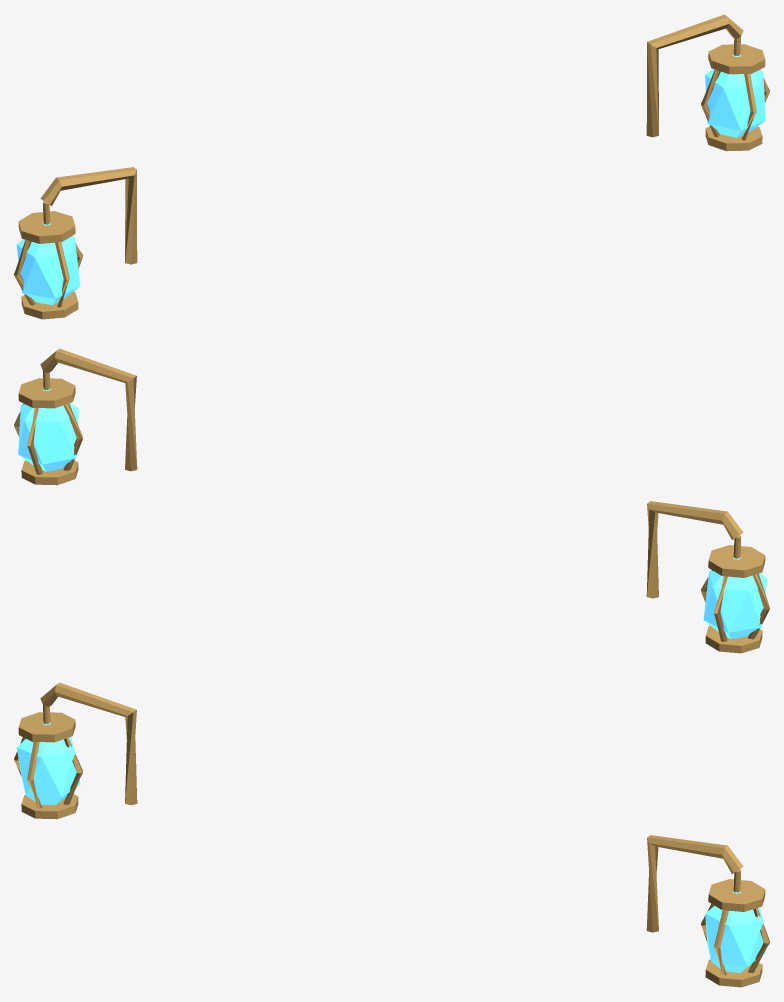
File: cobalt_lamps.glb
The picture shows the model from 3 angles, top to bottom: view 1: azimuth 30°, elevation 25°; view 2: azimuth 150°, elevation 25°; view 3: azimuth 330°, elevation 25°; orthographic projection.
Visible parts, largest first — view 1: Cobalt glass.001, Cobalt glass, Lantern crook.001, Lantern crook, Glass lamp cap, Glass lamp cap.002, Glass lamp cap.001, Glass lamp cap.003; view 2: Cobalt glass.001, Cobalt glass, Lantern crook, Lantern crook.001, Glass lamp cap, Glass lamp cap.002, Glass lamp cap.001, Glass lamp cap.003; view 3: Cobalt glass, Cobalt glass.001, Lantern crook, Lantern crook.001, Glass lamp cap.002, Glass lamp cap, Glass lamp cap.003, Glass lamp cap.001.
Boxes of the visible parts, box(x1,y1,x2,y2) form: Cobalt glass.001: box(705, 54, 765, 137); Cobalt glass: box(16, 222, 80, 305); Lantern crook.001: box(646, 14, 743, 137); Lantern crook: box(40, 167, 137, 264); Glass lamp cap: box(18, 211, 75, 243); Glass lamp cap.002: box(708, 44, 765, 74); Glass lamp cap.001: box(21, 291, 78, 319); Glass lamp cap.003: box(705, 126, 762, 151); Cobalt glass.001: box(18, 388, 78, 471); Cobalt glass: box(703, 556, 767, 639); Lantern crook: box(646, 501, 743, 598); Lantern crook.001: box(40, 348, 137, 471); Glass lamp cap: box(708, 545, 765, 577); Glass lamp cap.002: box(18, 378, 75, 408); Glass lamp cap.001: box(705, 625, 762, 653); Glass lamp cap.003: box(21, 460, 78, 485); Cobalt glass: box(16, 722, 80, 805); Cobalt glass.001: box(705, 890, 765, 972); Lantern crook: box(40, 682, 137, 805); Lantern crook.001: box(646, 835, 743, 932); Glass lamp cap.002: box(708, 879, 765, 911); Glass lamp cap: box(18, 712, 75, 742); Glass lamp cap.003: box(705, 959, 762, 987); Glass lamp cap.001: box(21, 794, 78, 819).
Size of the model in its own units: 6.23 by 1.02 by 0.5633.
